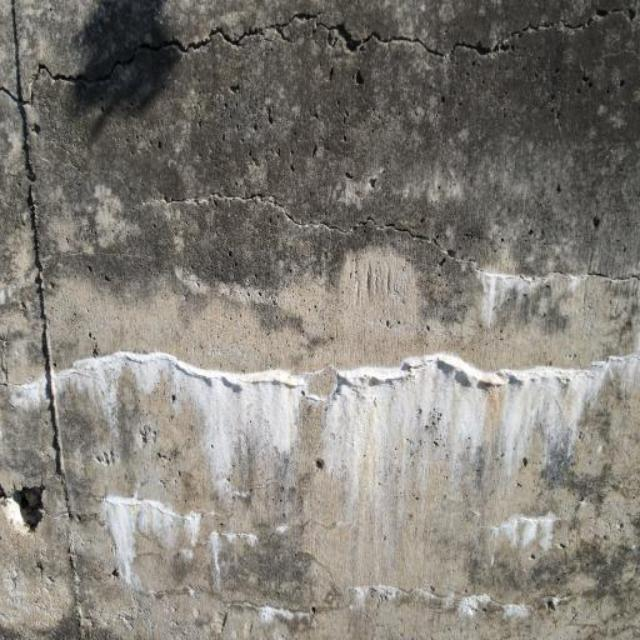D01: (58, 350, 633, 501), (102, 494, 200, 584), (490, 514, 556, 544), (10, 378, 44, 407)
